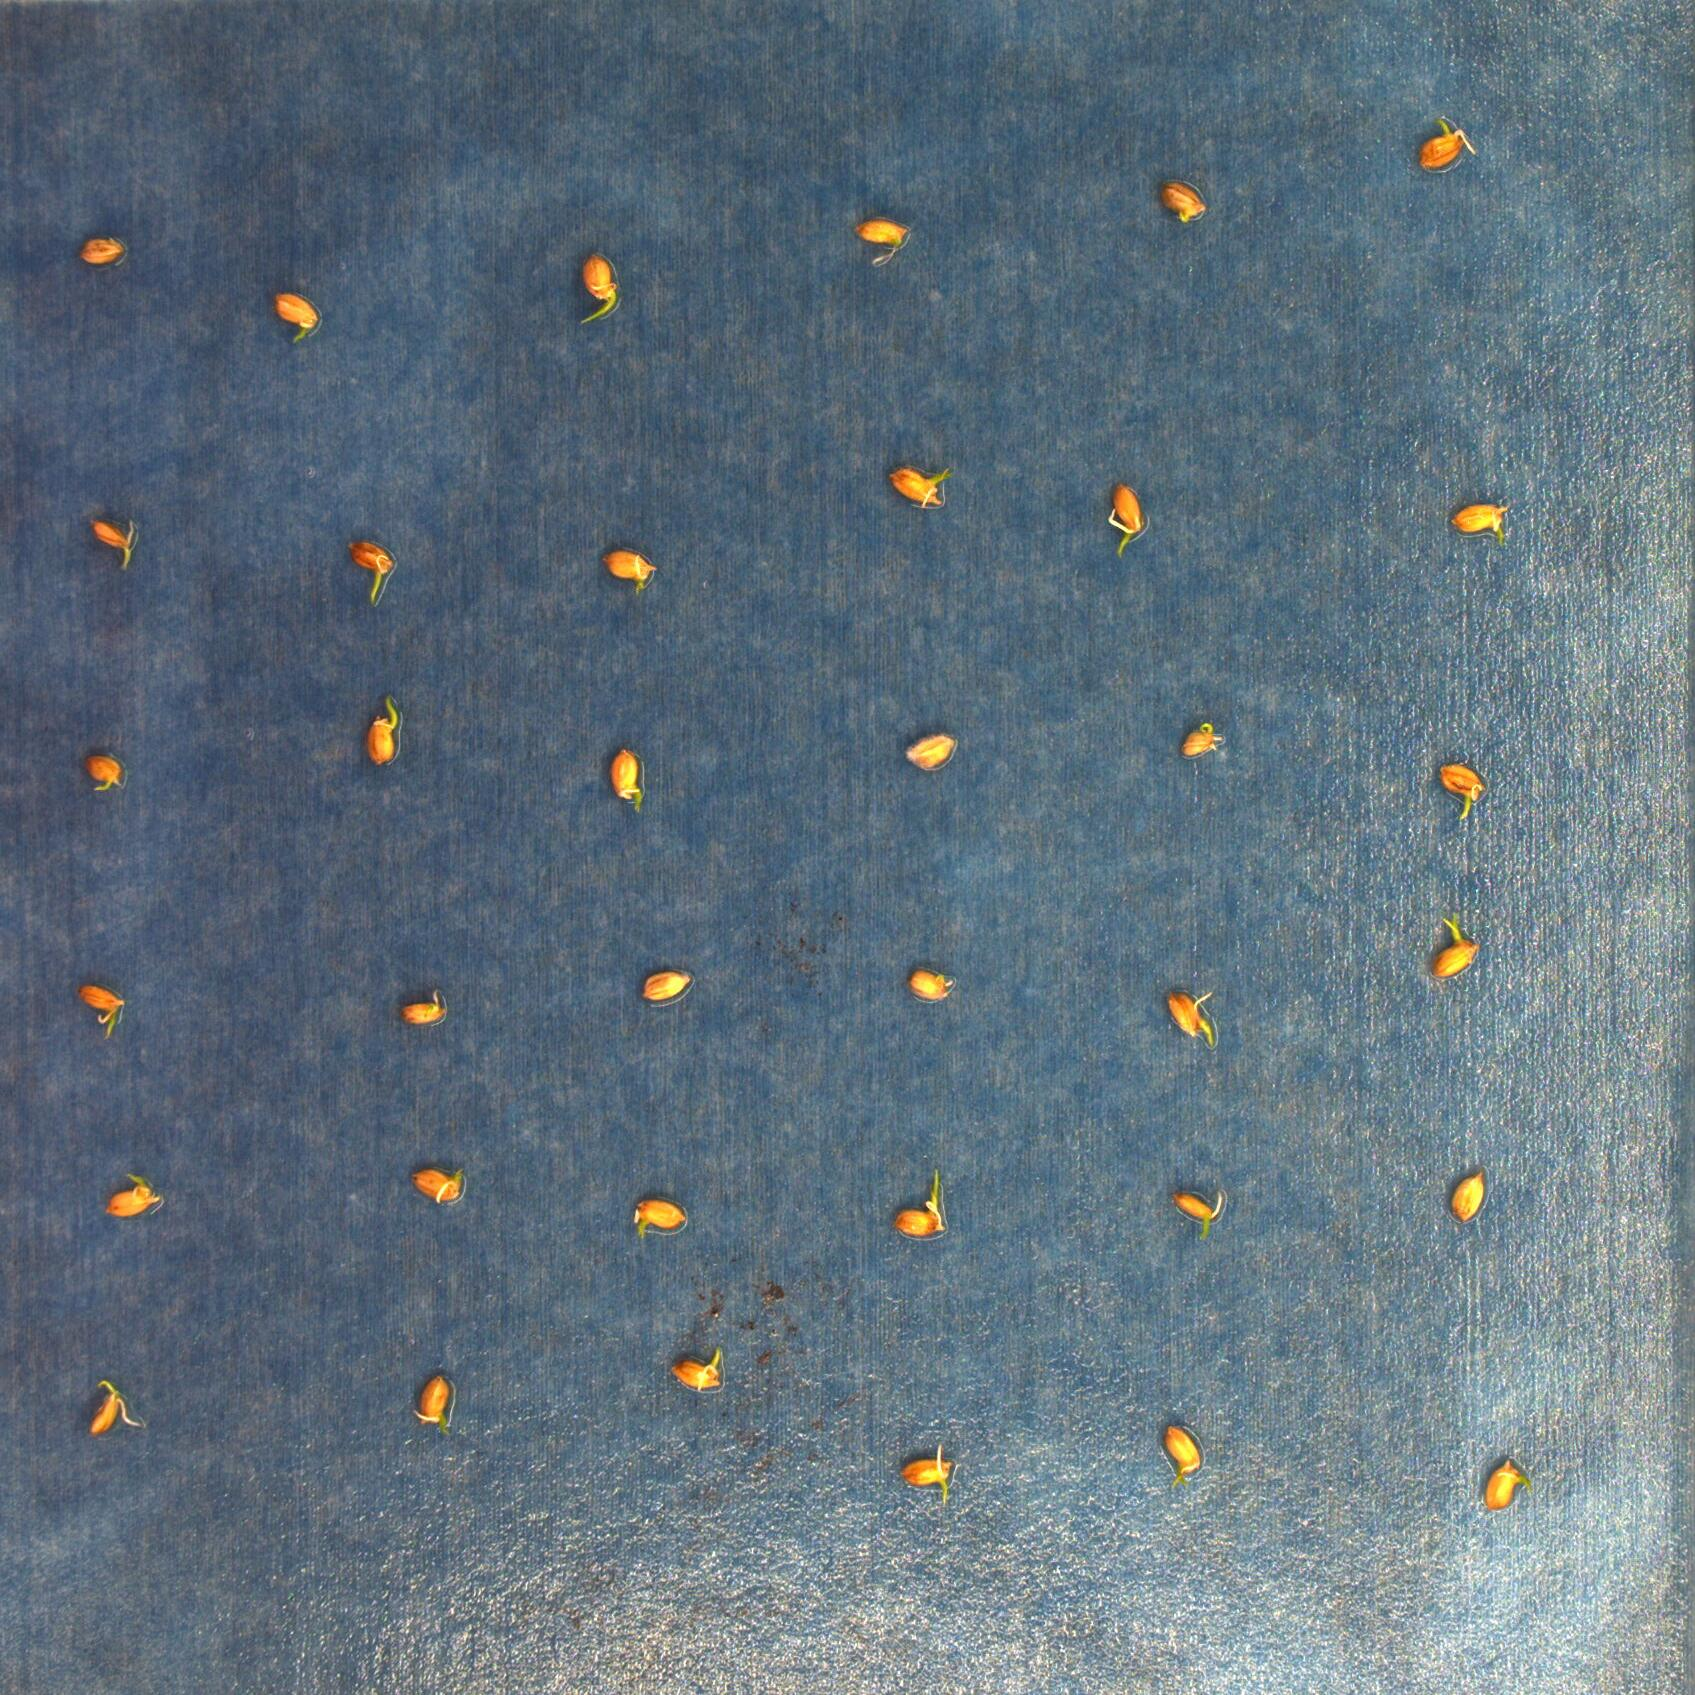not sprout: (81, 1377, 141, 1434), (1158, 1425, 1205, 1499), (854, 217, 919, 269), (93, 1170, 161, 1218), (1445, 498, 1510, 548), (1417, 120, 1478, 172), (587, 548, 655, 594), (414, 1372, 459, 1437), (1478, 1454, 1527, 1512), (272, 289, 321, 345), (886, 463, 945, 508), (613, 745, 650, 813), (407, 1166, 470, 1205), (632, 1197, 686, 1239), (1163, 179, 1211, 220), (640, 970, 698, 1004), (1448, 1170, 1489, 1220), (905, 969, 958, 1001), (400, 990, 450, 1024), (78, 237, 130, 267), (905, 734, 955, 765), (1181, 720, 1222, 757), (85, 753, 121, 790)
sprout: (893, 1167, 945, 1242), (899, 1447, 959, 1506), (1170, 1186, 1225, 1246), (1430, 917, 1479, 979), (573, 258, 618, 321), (85, 514, 133, 573), (343, 540, 390, 601), (1166, 987, 1218, 1040), (1108, 486, 1144, 560), (667, 1346, 725, 1391), (363, 698, 400, 764), (81, 987, 126, 1040), (1439, 765, 1482, 818)
